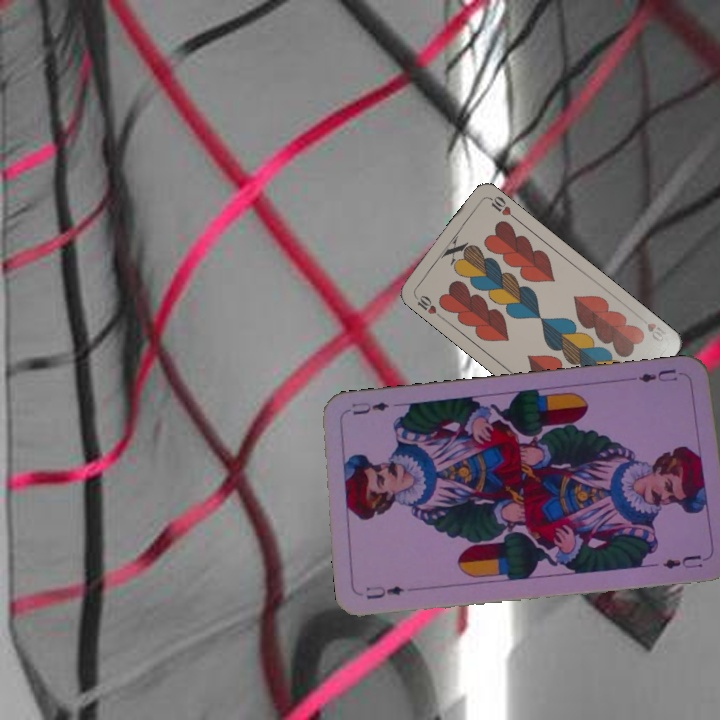EU: (362, 581, 407, 602), (635, 365, 680, 385)
H10: (634, 312, 670, 345), (410, 290, 444, 320)
